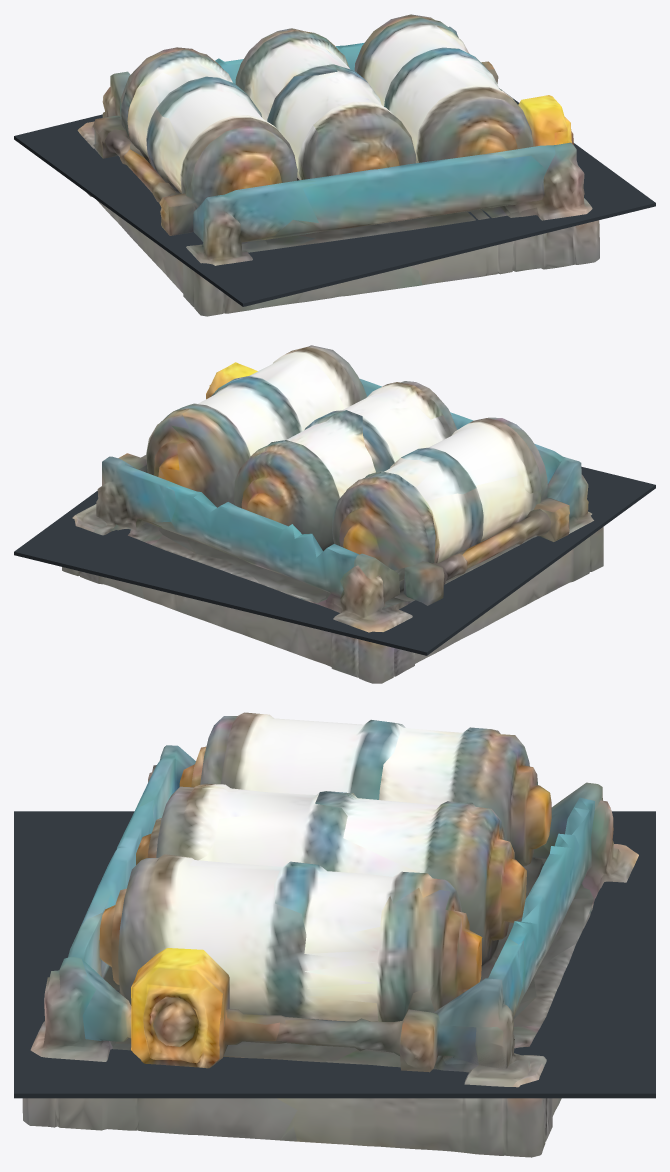
The model's file is barrels.glb.
The picture shows the model from 3 angles, top to bottom: view 1: azimuth 30°, elevation 25°; view 2: azimuth 150°, elevation 25°; view 3: azimuth 270°, elevation 25°; orthographic projection. The views are drawn at different scales.
Parts seen in each view (by area): view 1: SM_Drum_Tray, SM_Drum_Tray_Backing, SM_Body, SM_LOD; view 2: SM_Drum_Tray, SM_Drum_Tray_Backing, SM_Body, SM_LOD; view 3: SM_Drum_Tray, SM_Drum_Tray_Backing, SM_Body, SM_LOD.
Part boxes in pixels (<box>): SM_Drum_Tray: <box>93,14,584,259</box>; SM_Drum_Tray_Backing: <box>14,91,655,306</box>; SM_Body: <box>77,121,599,316</box>; SM_LOD: <box>93,14,457,178</box>; SM_Drum_Tray: <box>96,345,588,621</box>; SM_Drum_Tray_Backing: <box>14,466,655,655</box>; SM_Body: <box>62,504,603,683</box>; SM_LOD: <box>105,414,496,620</box>; SM_Drum_Tray: <box>44,712,617,1072</box>; SM_Drum_Tray_Backing: <box>14,811,655,1098</box>; SM_Body: <box>22,844,638,1157</box>; SM_LOD: <box>388,727,615,1068</box>.
Size of the model in its own units: 1.02 by 0.3608 by 0.98.
3 materials, 2 textured.
